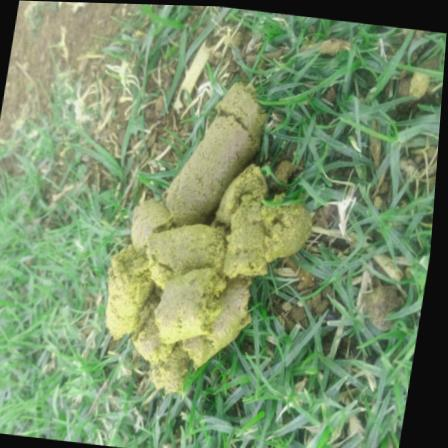dog-poop: (95, 66, 330, 411)
